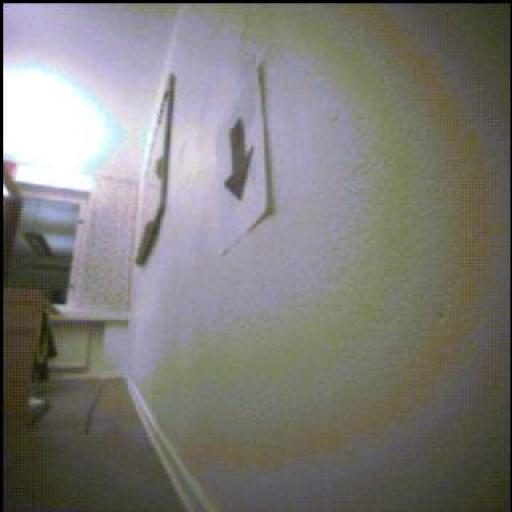Arrow: (225, 119, 254, 201)
